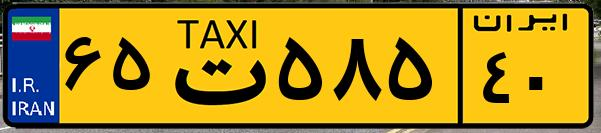0: (525, 38, 570, 115)
4: (475, 38, 525, 113)
5: (270, 28, 330, 110), (385, 28, 445, 110), (110, 28, 158, 98)
6: (57, 26, 110, 100)
8: (330, 28, 385, 110)
ت: (158, 12, 270, 120)
